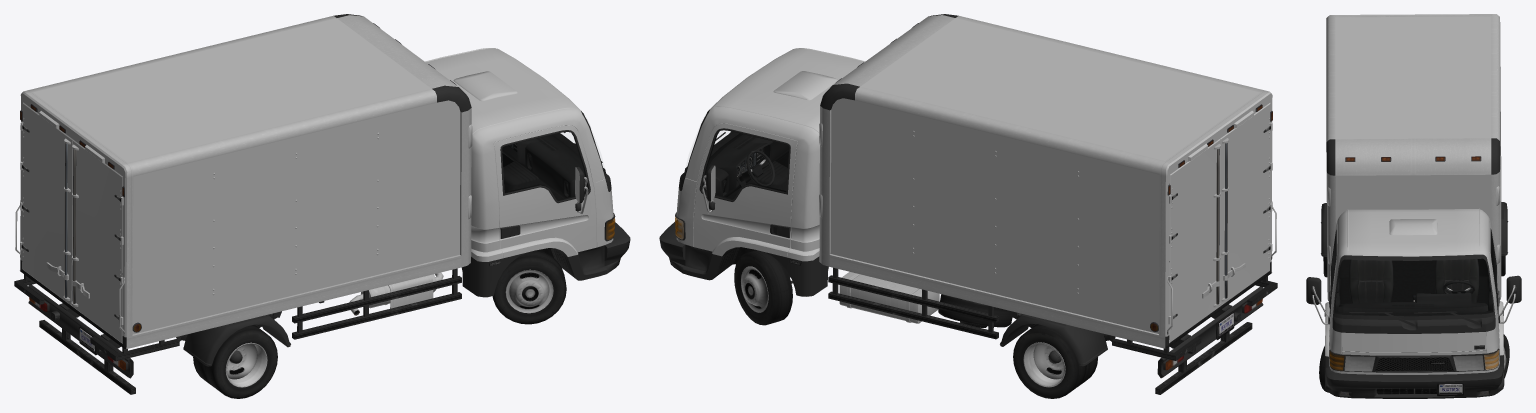
3 views of the same model, side by side, from view 1: azimuth 30°, elevation 25°; view 2: azimuth 150°, elevation 25°; view 3: azimuth 270°, elevation 25° (orthographic). The views are drawn at different scales.
Visible parts, largest first — view 1: Cargo_box_bodycolor_0, Cargo_box_Frame_UCB_BOTTOM_0, body_bodycolor_0, Cargodoor_left_bodycolor_0, Cargodoor_right_bodycolor_0, Frame, Door_Right_bodycolor_0, Dashboard_GEN4DR_INTERIOR_0, Bottom_UCB_BOTTOM_0, wheel_RR_tier_1o_0, wheel_FR_tier_1o_0, wheel_FR_wheel_truck_stamp_0 (+8 smaller); view 2: Cargo_box_bodycolor_0, Cargo_box_Frame_UCB_BOTTOM_0, body_bodycolor_0, Cargodoor_right_bodycolor_0, Cargodoor_left_bodycolor_0, Frame, Door_Left_bodycolor_0, Bottom_UCB_BOTTOM_0, wheel_RL_tier_1o_0, Dashboard_GEN4DR_INTERIOR_0, wheel_FL_tier_1o_0, Bottom_stuff_UCB_BOTTOM_0 (+9 smaller); view 3: Cargo_box_bodycolor_0, body_bodycolor_0, Cargo_box_Frame_UCB_BOTTOM_0, Bumper_front_UCB_BOTTOM_0, Windshield_trim_UCB_BOTTOM_0, Seats_GEN4DR_INTERIOR_0, Interior_GEN4DR_INTERIOR_0, Dashboard_GEN4DR_INTERIOR_0, Headlights_UCB_BOTTOM_0, Grill_UCB_BOTTOM_0, Headlights_Glass_krmlgtbdy85_headlights_0, Frame (+12 smaller).
Part boxes in pixels (x1,y1,x2,y2): Cargo_box_bodycolor_0: (20,18,460,337); Cargo_box_Frame_UCB_BOTTOM_0: (15,14,472,349); body_bodycolor_0: (425,48,613,261); Cargodoor_left_bodycolor_0: (22,102,72,305); Cargodoor_right_bodycolor_0: (72,139,122,343); Frame: (14,268,461,394); Door_Right_bodycolor_0: (493,125,596,258); Dashboard_GEN4DR_INTERIOR_0: (502,134,587,198); Bottom_UCB_BOTTOM_0: (461,245,606,297); wheel_RR_tier_1o_0: (193,324,277,398); wheel_FR_tier_1o_0: (492,250,566,324); wheel_FR_wheel_truck_stamp_0: (505,269,553,313); Cargo_box_bodycolor_0: (830,18,1272,336); Cargo_box_Frame_UCB_BOTTOM_0: (819,14,1276,348); body_bodycolor_0: (676,48,865,261); Cargodoor_right_bodycolor_0: (1219,103,1270,306); Cargodoor_left_bodycolor_0: (1169,139,1220,343); Frame: (828,267,1277,394); Door_Left_bodycolor_0: (693,123,797,257); Bottom_UCB_BOTTOM_0: (683,244,828,296); wheel_RL_tier_1o_0: (1013,324,1097,398); Dashboard_GEN4DR_INTERIOR_0: (703,133,788,197); wheel_FL_tier_1o_0: (734,250,792,325); Bottom_stuff_UCB_BOTTOM_0: (839,271,986,327); Cargo_box_bodycolor_0: (1335,16,1491,224); body_bodycolor_0: (1325,208,1503,374); Cargo_box_Frame_UCB_BOTTOM_0: (1326,14,1501,300); Bumper_front_UCB_BOTTOM_0: (1325,366,1503,398); Windshield_trim_UCB_BOTTOM_0: (1332,254,1495,333); Seats_GEN4DR_INTERIOR_0: (1348,259,1479,303); Interior_GEN4DR_INTERIOR_0: (1334,258,1493,316); Dashboard_GEN4DR_INTERIOR_0: (1338,293,1487,314); Headlights_UCB_BOTTOM_0: (1329,349,1499,371); Grill_UCB_BOTTOM_0: (1330,348,1498,372); Headlights_Glass_krmlgtbdy85_headlights_0: (1345,355,1483,371); Frame: (1321,202,1508,256).
Bounding box in the file's own units: 237 × 112 × 103.
Materials: 9 (8 with a texture image).
